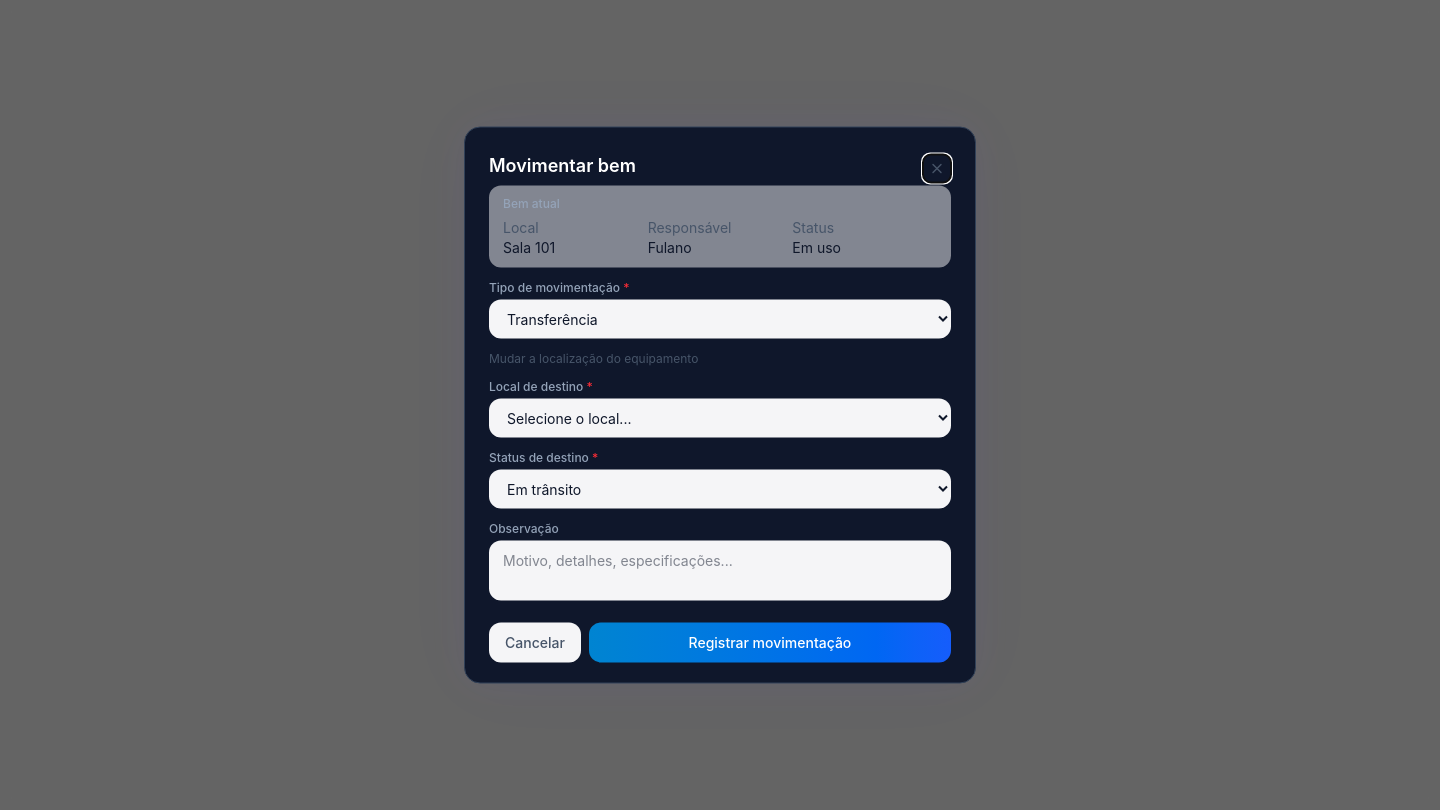
Test case: MovementFormModal › validação: responsável igual na troca de responsável
The width and height of the screenshot is (1440, 810).
Select "Troca de responsável" in the dropdown named "Tipo de movimentação" at (720, 319), box [489,300,951,338]
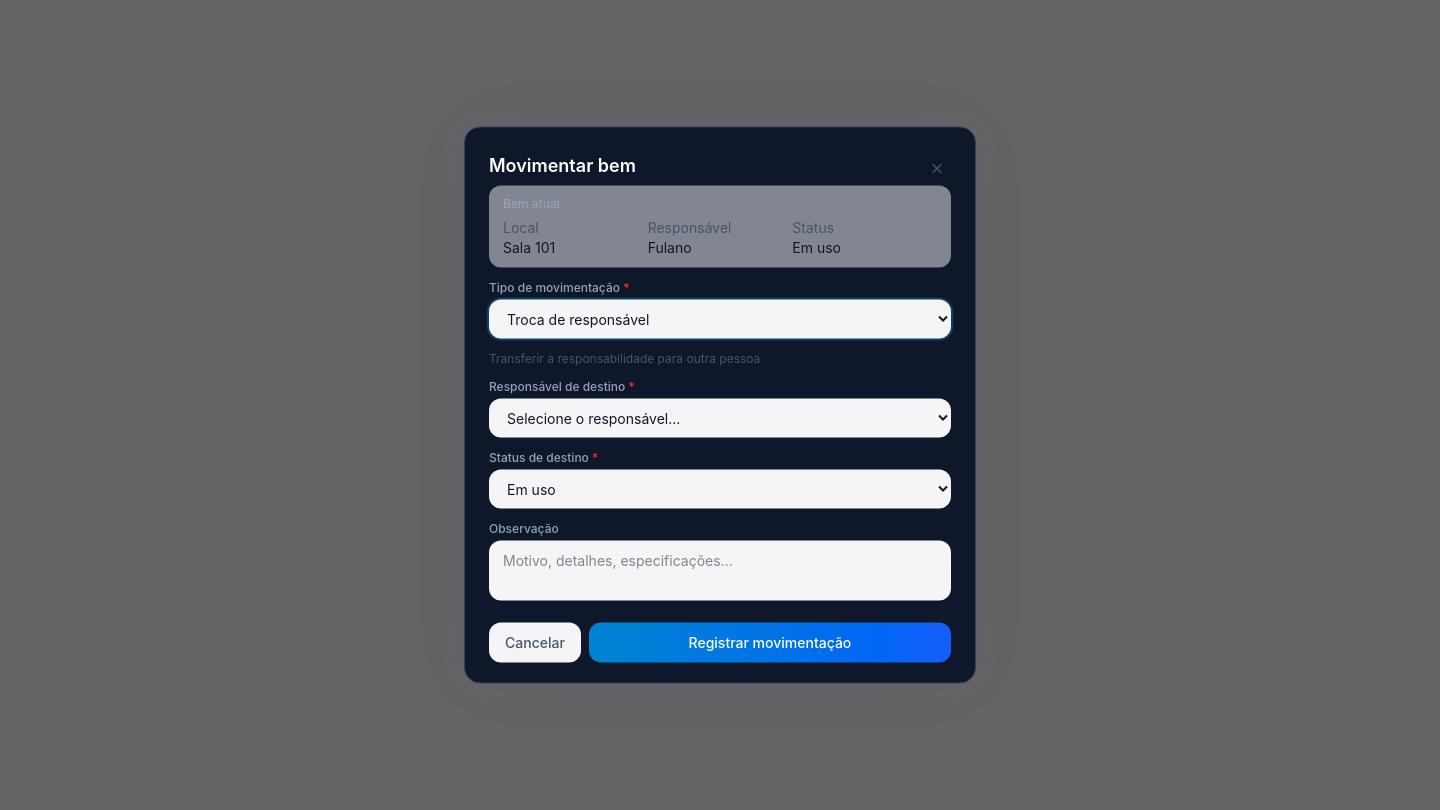
Select "Fulano" in the dropdown named "Responsável de destino" at (720, 418), box [489,398,951,438]
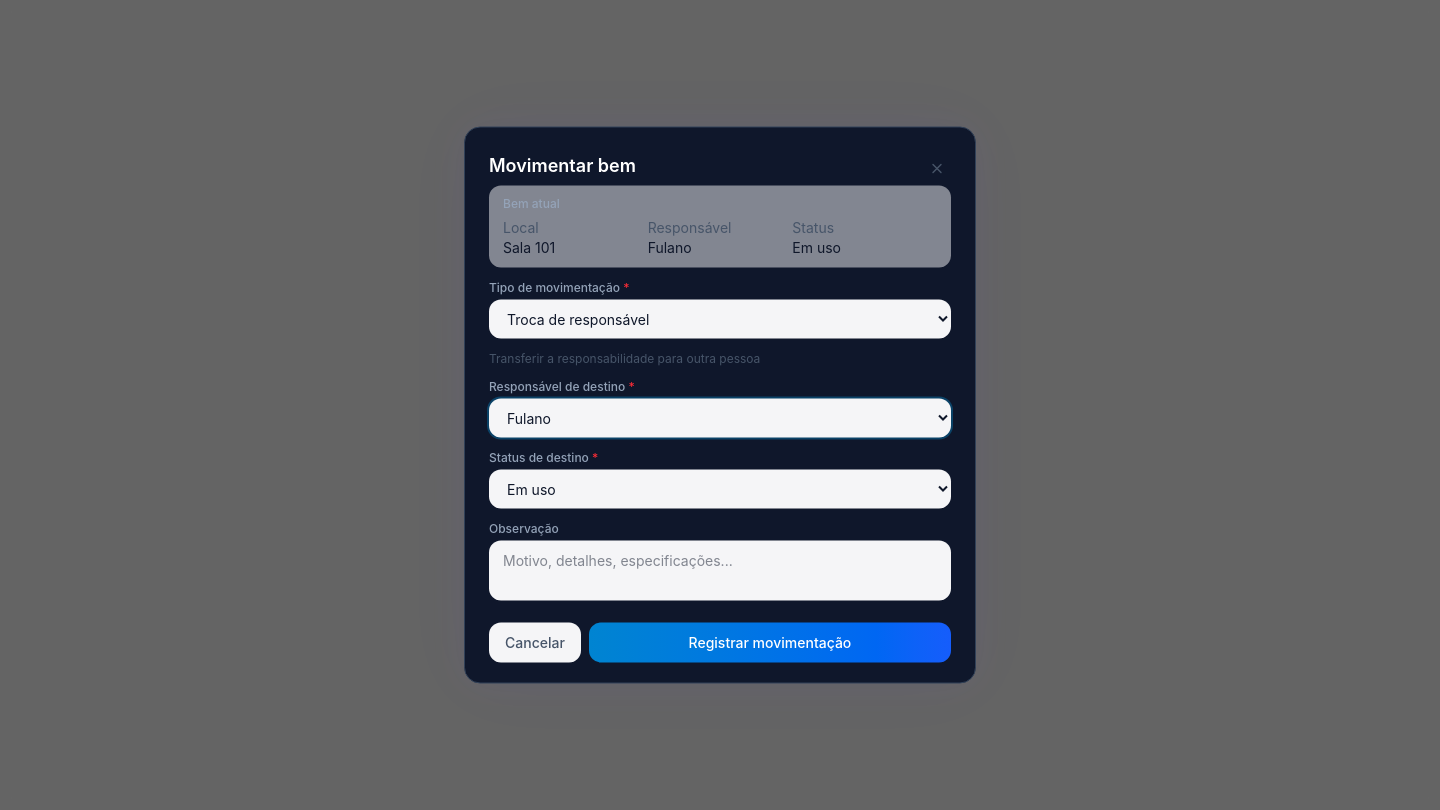
Click the button "Registrar movimentação" at (770, 642), box [589,622,951,662]
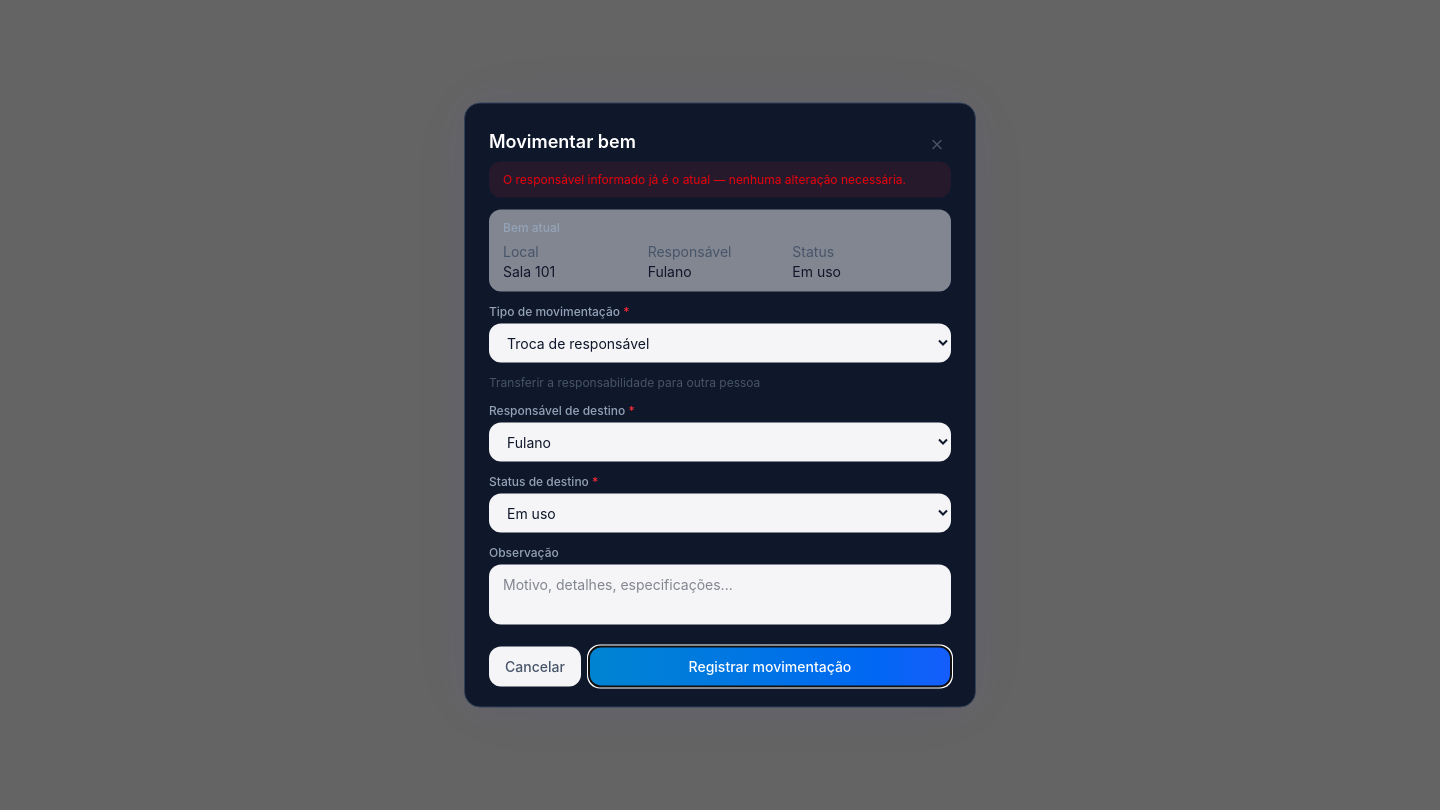
Result: the text "O responsável informado já é o atual — nenhuma alteração necessária." is shown at [489,162,951,198]
